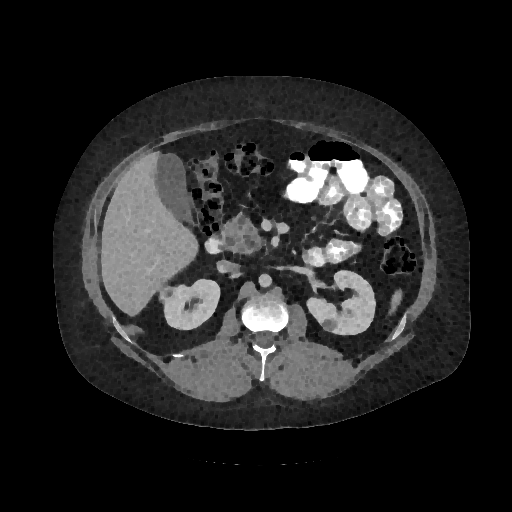Lesion: (318, 315, 342, 336)
